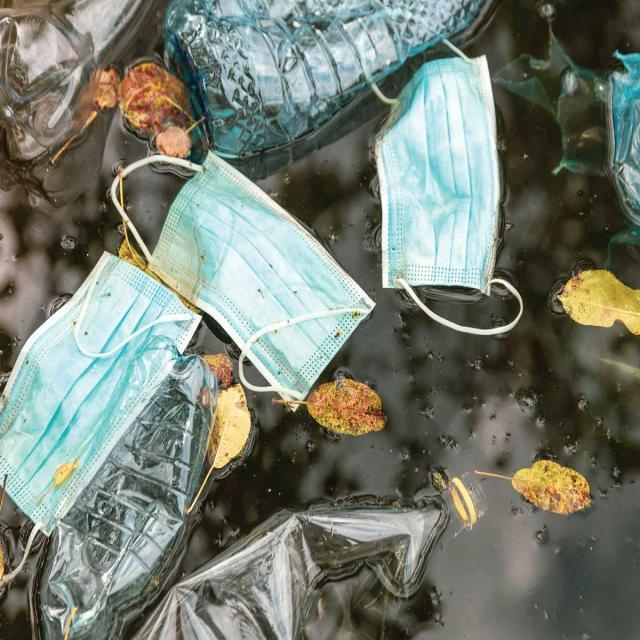Mask: (110, 149, 382, 416), (0, 244, 204, 584), (369, 41, 524, 342)
